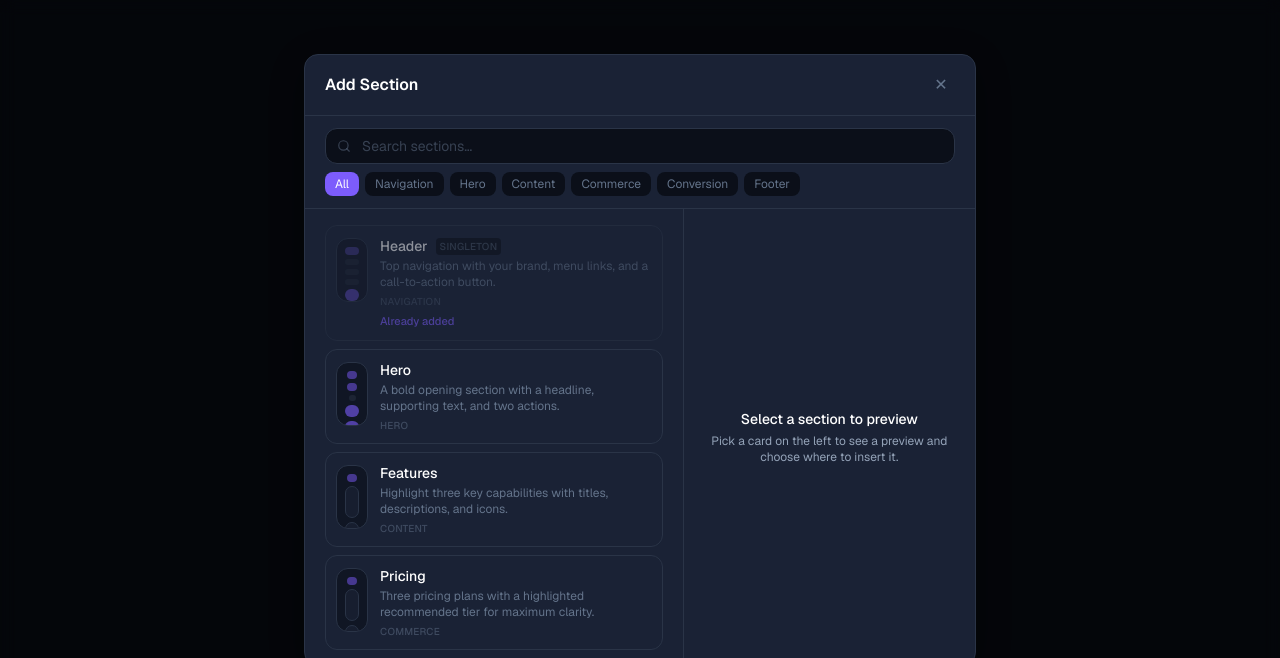
Test case: AddSectionDialog search and filter › filters by search query
This screenshot has width=1280, height=658.
Type "pricing" into the field labelled "Search sections".
click(640, 146); type("pricing")  # box [325,128,955,164]
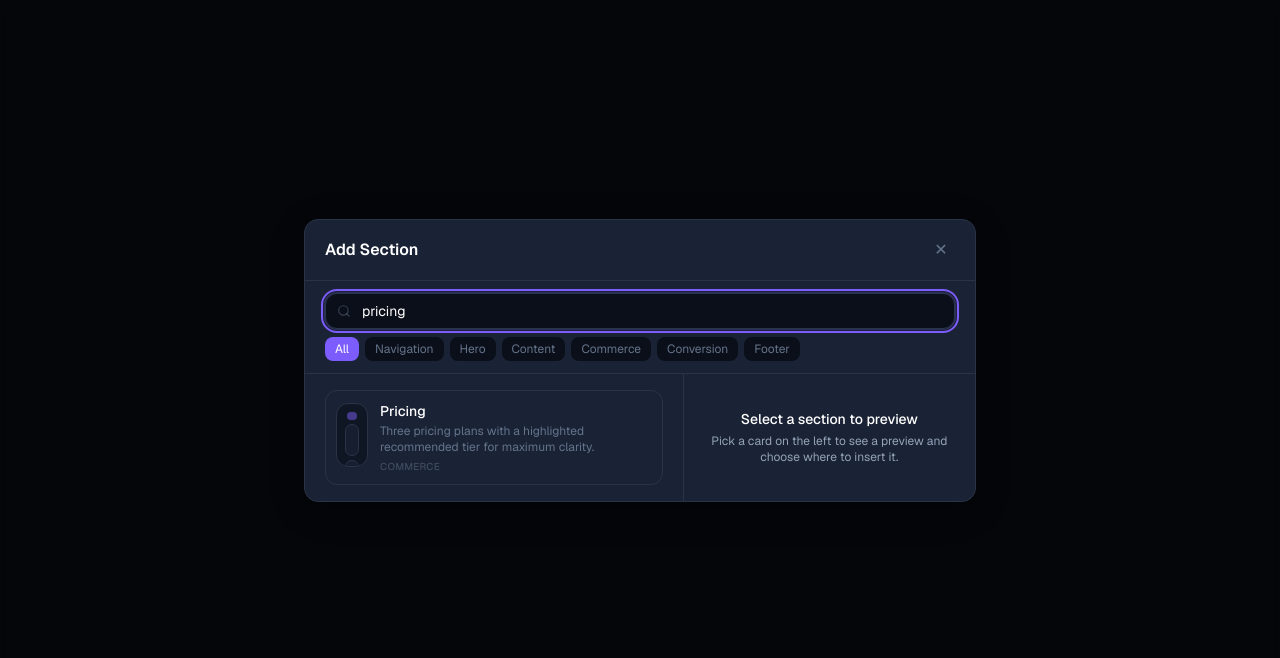
Check: the button with test id "section-card-pricing" is shown, box [325,390,663,484]
Check: the button with test id "section-card-hero" is gone
